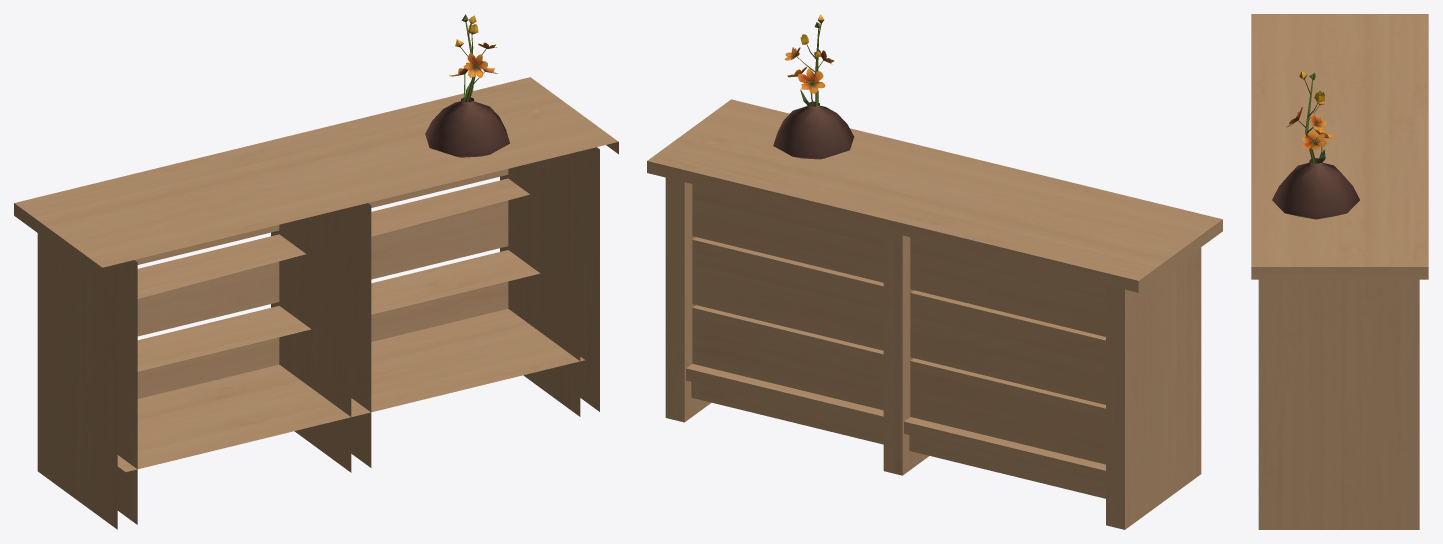
File: M_ruhugui03.FBX
The picture shows the model from 3 angles, left to right: view 1: azimuth 30°, elevation 25°; view 2: azimuth 150°, elevation 25°; view 3: azimuth 270°, elevation 25°; orthographic projection. The views are drawn at different scales.
Visible parts, largest first — view 1: M_ruhugui03_01, M_ruhugui03_02, M_ruhugui03_03; view 2: M_ruhugui03_01, M_ruhugui03_02, M_ruhugui03_03; view 3: M_ruhugui03_01, M_ruhugui03_02, M_ruhugui03_03.
Boxes of the visible parts, x1,y1,x2,y2 form: M_ruhugui03_01: [14, 77, 618, 529]; M_ruhugui03_02: [425, 97, 509, 157]; M_ruhugui03_03: [449, 14, 497, 102]; M_ruhugui03_01: [647, 99, 1222, 529]; M_ruhugui03_02: [773, 101, 853, 159]; M_ruhugui03_03: [784, 14, 834, 106]; M_ruhugui03_01: [1251, 14, 1428, 529]; M_ruhugui03_02: [1272, 158, 1359, 219]; M_ruhugui03_03: [1286, 71, 1334, 163].
Bounding box in the file's own units: 2.2 × 1.66 × 0.6536.
